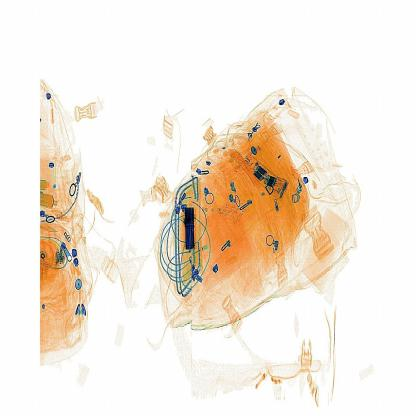scissors: (180, 197, 210, 258)
